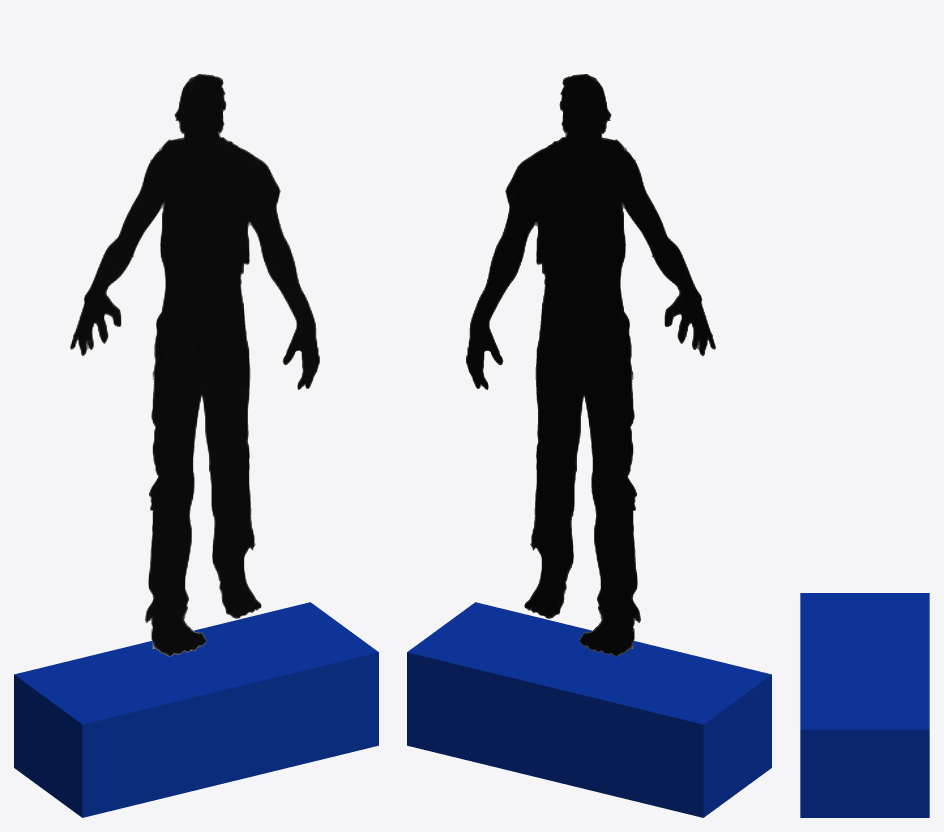
File: zombie.FBX
3 renders of one model, left to right at view 1: azimuth 30°, elevation 25°; view 2: azimuth 150°, elevation 25°; view 3: azimuth 270°, elevation 25°, orthographic. The views are drawn at different scales.
Parts seen in each view (by area): view 1: Box001; view 2: Box001; view 3: Box001.
Part boxes in pixels (x1,y1,x2,y2): Box001: (14, 74, 378, 817); Box001: (407, 74, 771, 817); Box001: (800, 593, 929, 817).
Bounding box in the file's own units: 1 × 2.28 × 0.4.
2 materials, 1 textured.
